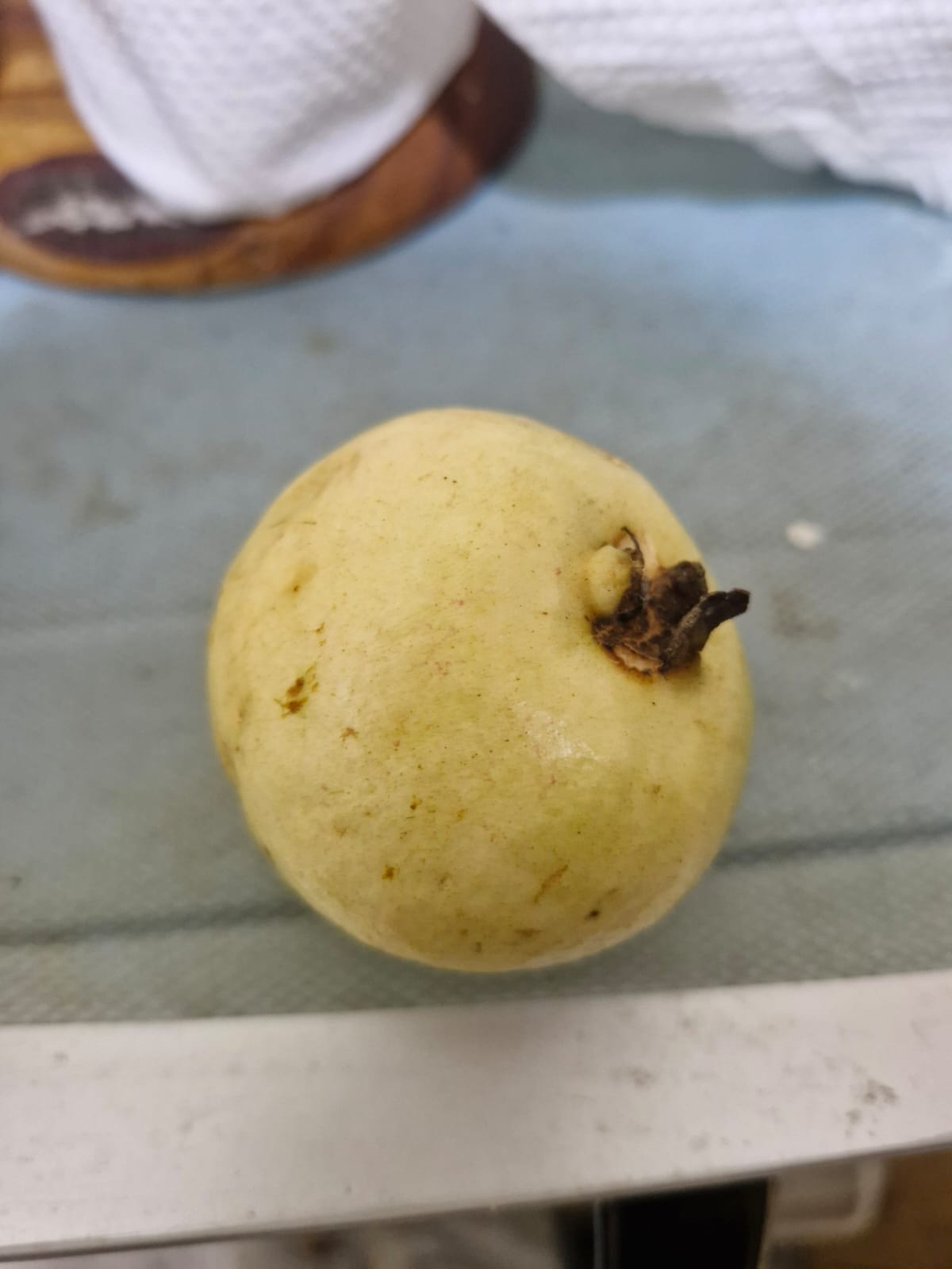guava: (78, 41, 751, 984)
